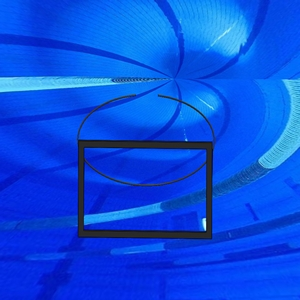circle: (76, 92, 217, 241)
